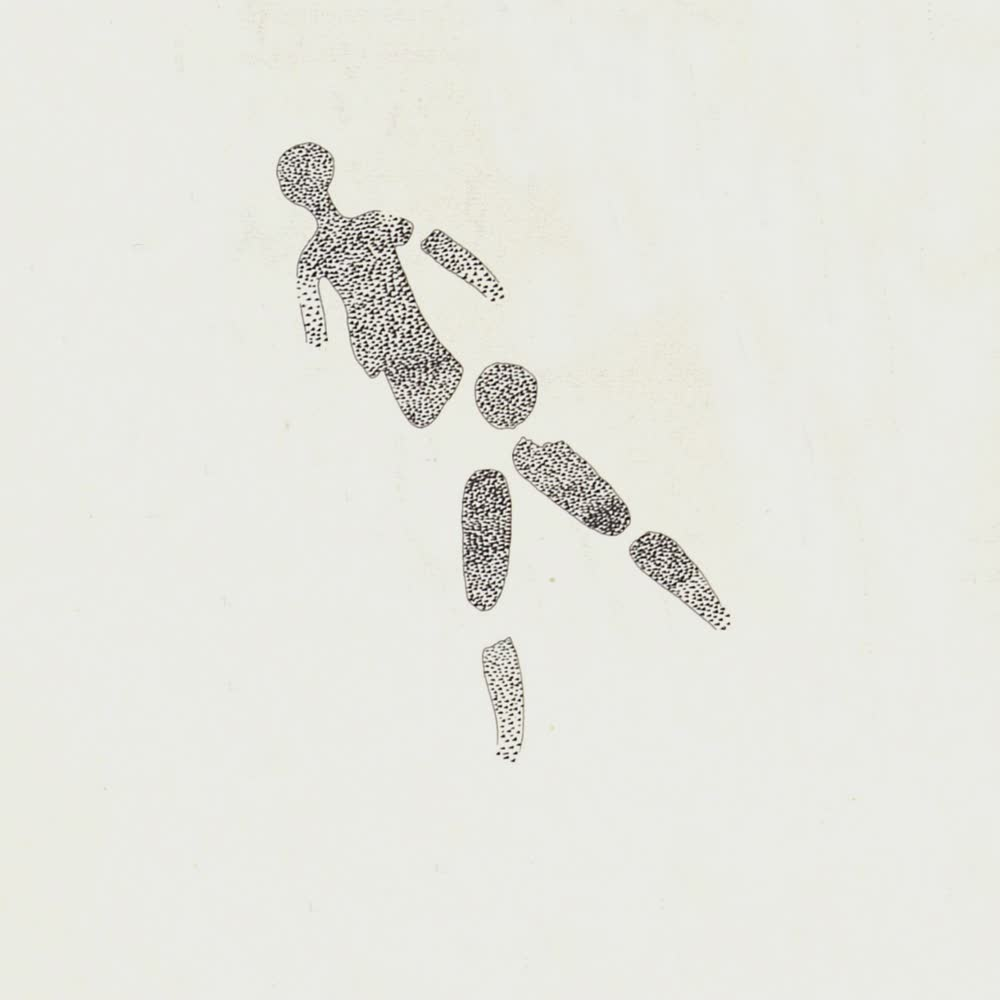woman: (273, 139, 735, 765)
